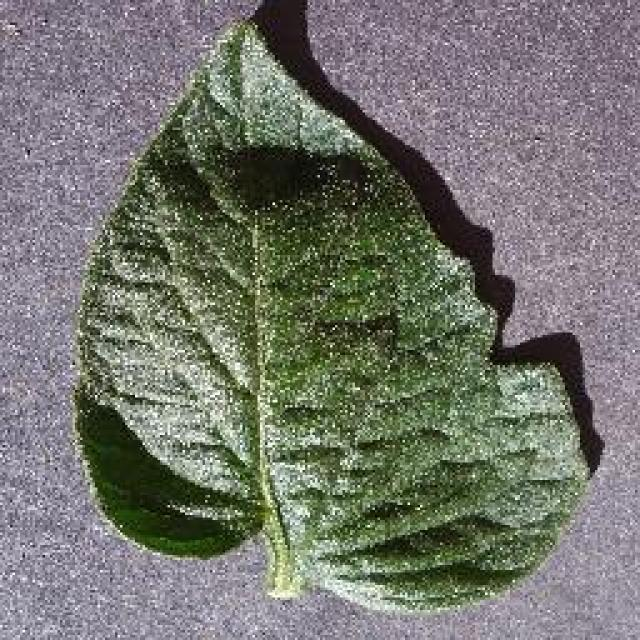Tomato healthy leaf: (80, 18, 588, 602)
